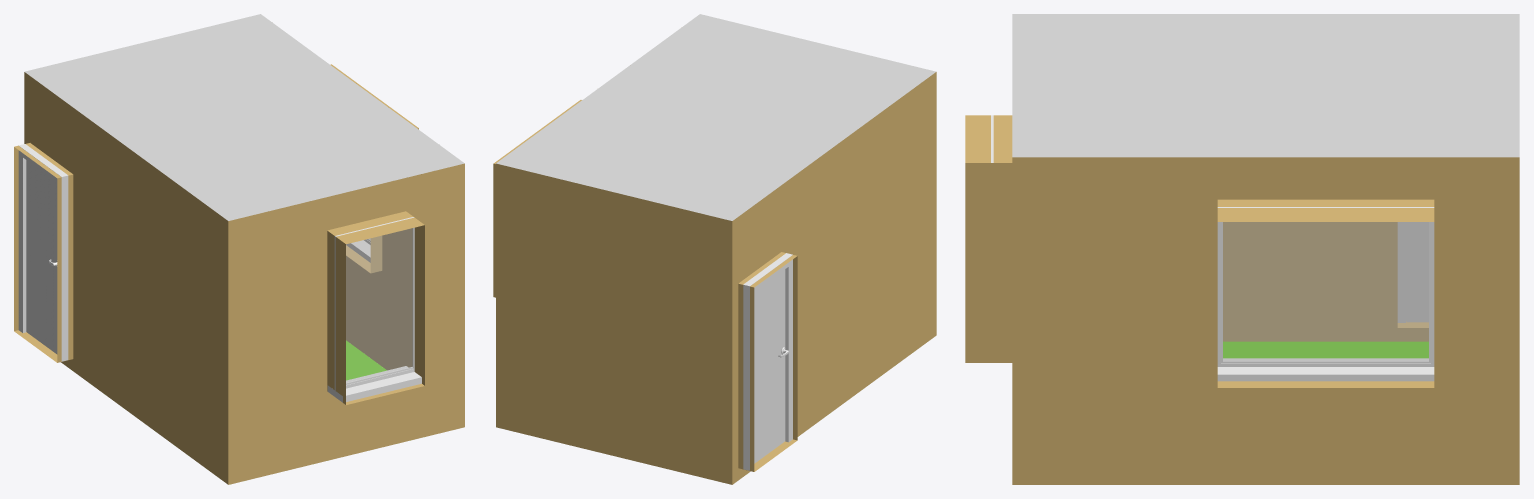
File: Office1.glb
3 views of the same model, side by side, from view 1: azimuth 30°, elevation 25°; view 2: azimuth 150°, elevation 25°; view 3: azimuth 270°, elevation 25° (orthographic). The views are drawn at different scales.
Visible parts, largest first — view 1: Room_Office1, Office1_Window_South, DinningRoom_Door, Office1_Door_Frame; view 2: Room_Office1, DinningRoom_Door, Office1_Door_Frame; view 3: Room_Office1, Office1_Window_East, DinningRoom_Door, Office1_Door_Frame.
Boxes of the visible parts, x1=… form: Room_Office1: x1=14, y1=14, x2=464, y2=484; Office1_Window_South: x1=327, y1=217, x2=421, y2=402; DinningRoom_Door: x1=26, y1=160, x2=57, y2=354; Office1_Door_Frame: x1=18, y1=144, x2=68, y2=361; Room_Office1: x1=493, y1=14, x2=936, y2=484; DinningRoom_Door: x1=754, y1=269, x2=785, y2=463; Office1_Door_Frame: x1=743, y1=253, x2=792, y2=470; Room_Office1: x1=965, y1=14, x2=1519, y2=484; Office1_Window_East: x1=1217, y1=207, x2=1434, y2=381; DinningRoom_Door: x1=1406, y1=222, x2=1428, y2=322; Office1_Door_Frame: x1=1397, y1=222, x2=1406, y2=322.
Bounding box in the file's own units: 3.44 × 3 × 4.6.
